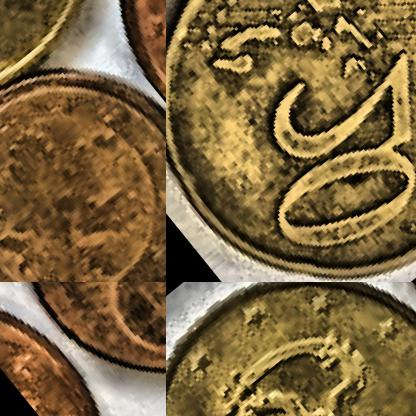coin: (166, 0, 415, 281), (0, 1, 165, 281), (166, 282, 415, 415), (0, 282, 165, 415)
